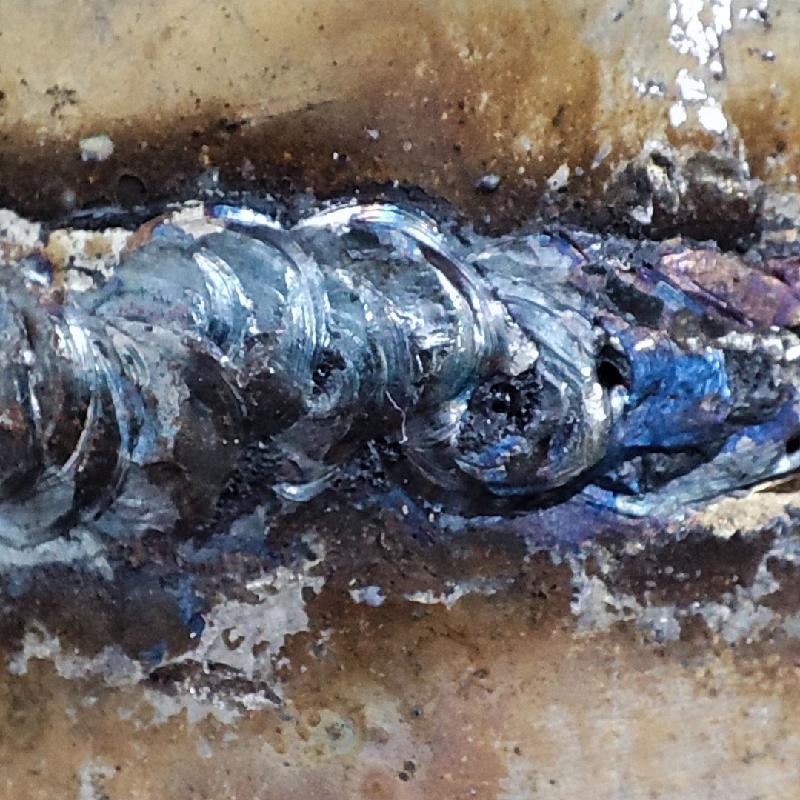Surface_pores: (573, 335, 643, 409), (473, 362, 528, 433), (292, 342, 351, 403)
good: (0, 197, 799, 521)
